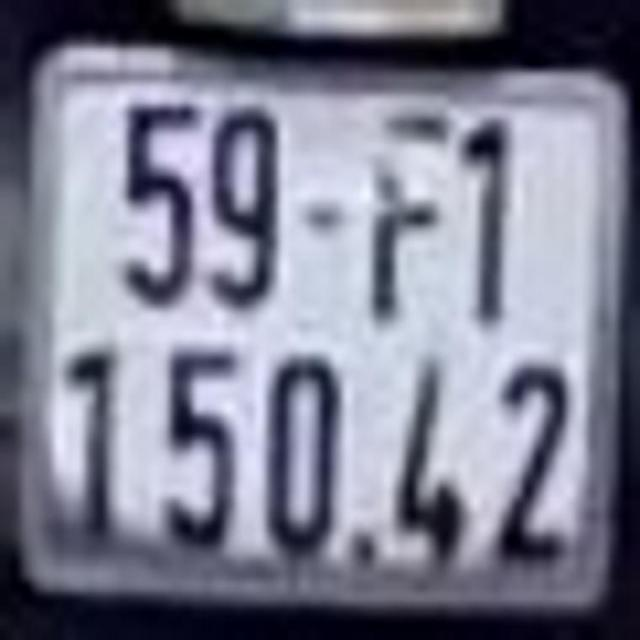0: (266, 351, 339, 553)
1: (461, 118, 518, 316), (62, 350, 118, 532)
2: (493, 360, 566, 559)
4: (398, 361, 462, 560)
5: (118, 98, 196, 311), (162, 352, 238, 545)
9: (212, 107, 278, 296)
F: (368, 114, 451, 320)
